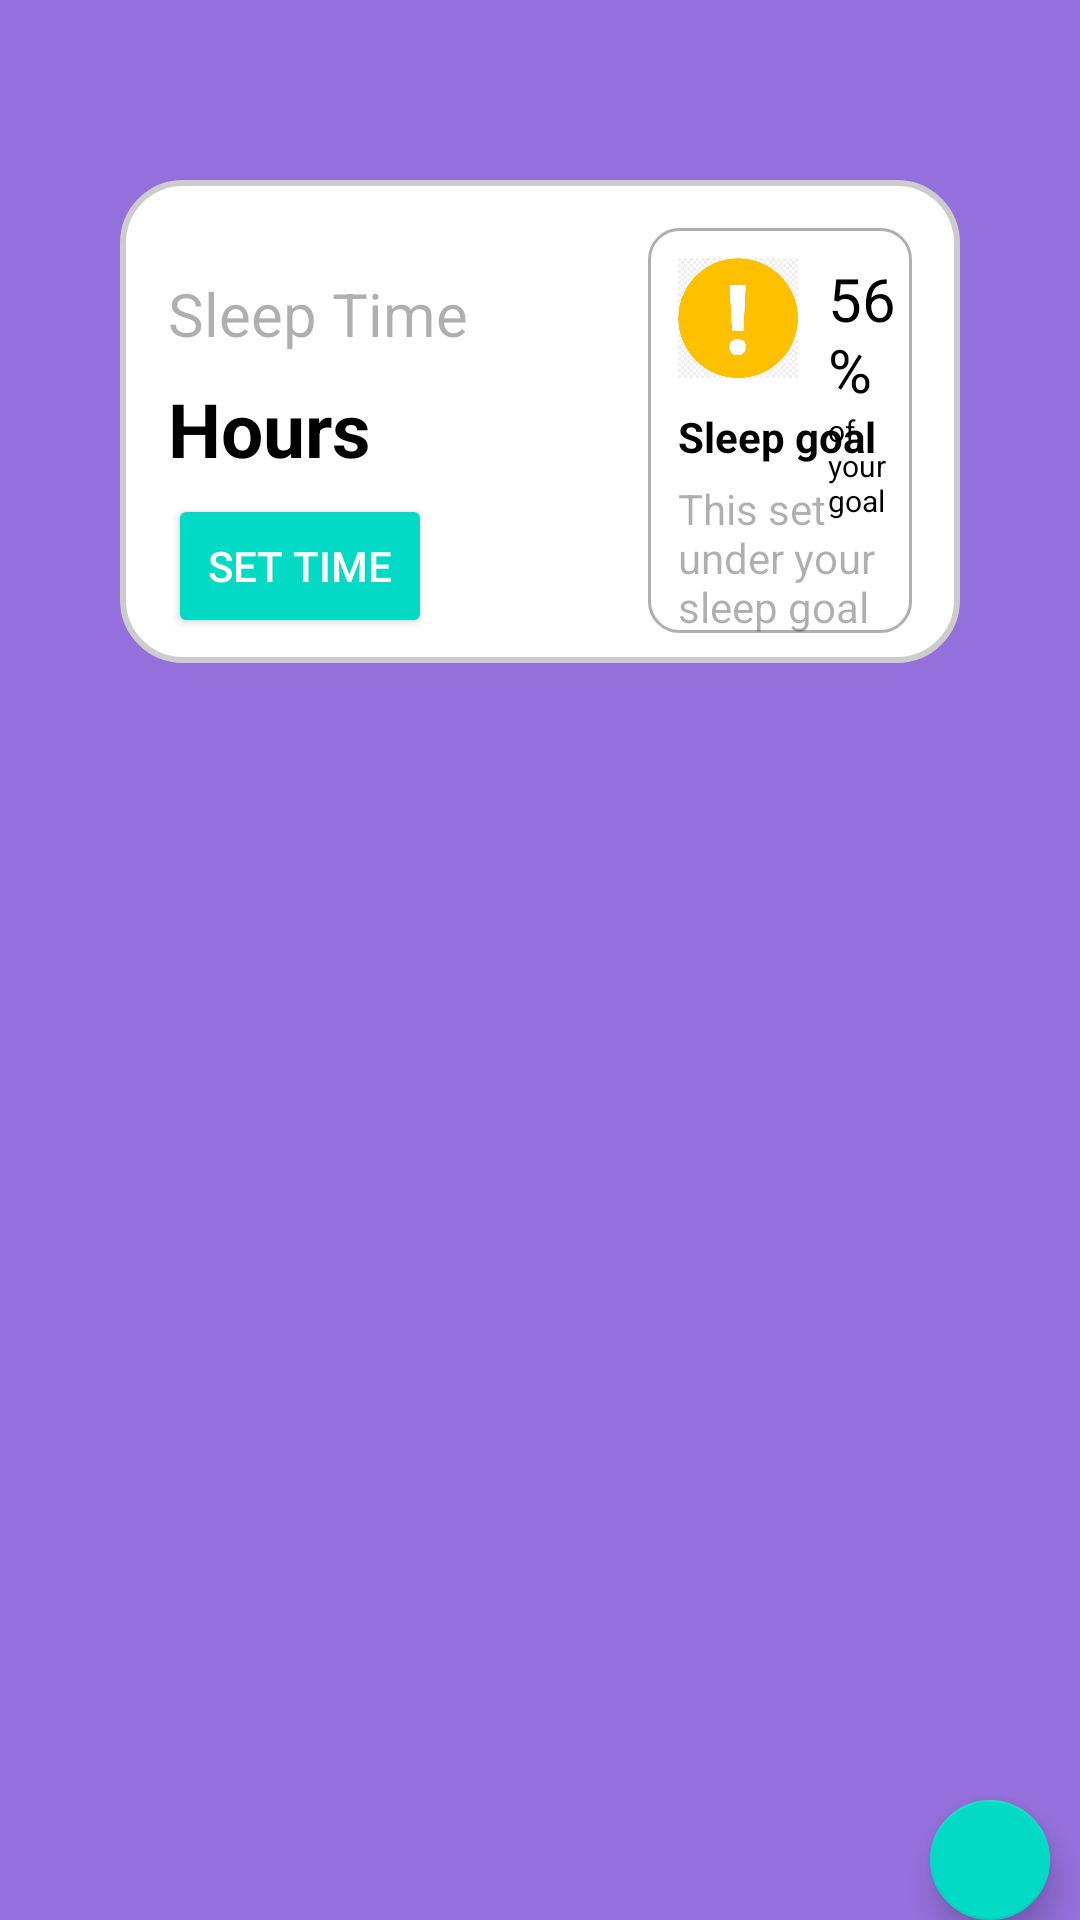

Icons on this 1080px×1920px Android screen, each with the point to tap as point (x, y):
escalamationmark: point (738, 318)
